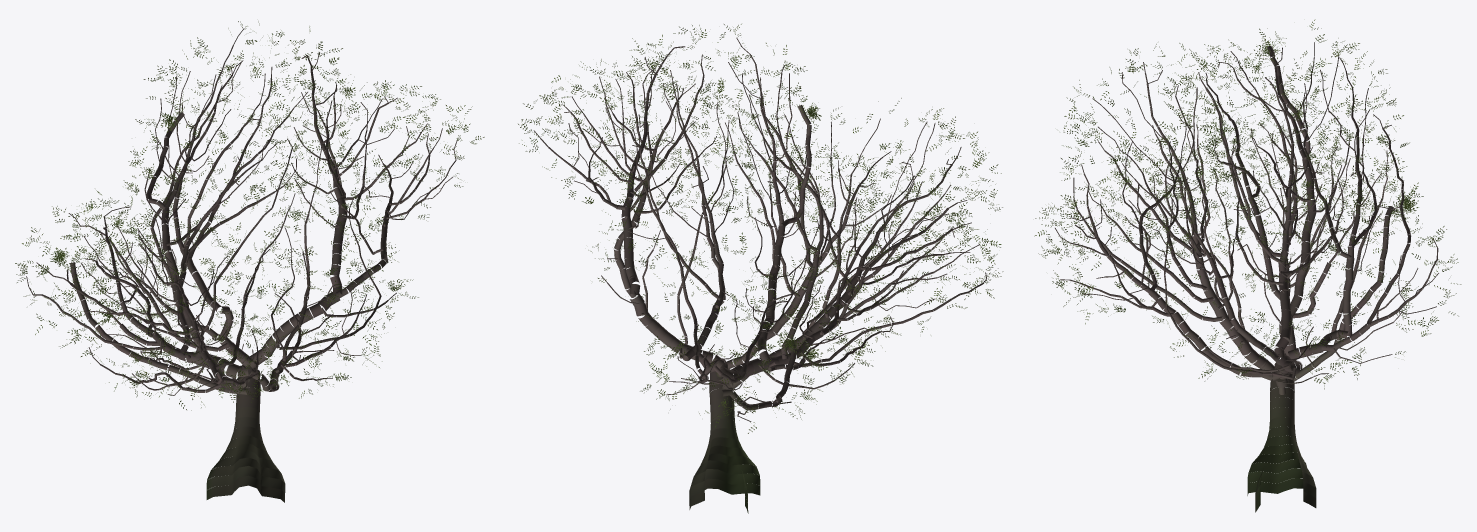
The model's file is SM_Tree_ash_1.glb.
3 views of the same model, side by side, from view 1: azimuth 30°, elevation 25°; view 2: azimuth 150°, elevation 25°; view 3: azimuth 270°, elevation 25° (orthographic). The views are drawn at different scales.
Visible parts, largest first — view 1: SM_Tree_ash_1; view 2: SM_Tree_ash_1; view 3: SM_Tree_ash_1.
Boxes of the visible parts, x1,y1,x2,y2 form: SM_Tree_ash_1: [15, 21, 484, 502]; SM_Tree_ash_1: [518, 24, 1003, 513]; SM_Tree_ash_1: [1034, 19, 1461, 512].
Size of the model in its own units: 13.85 by 14.12 by 11.46.
